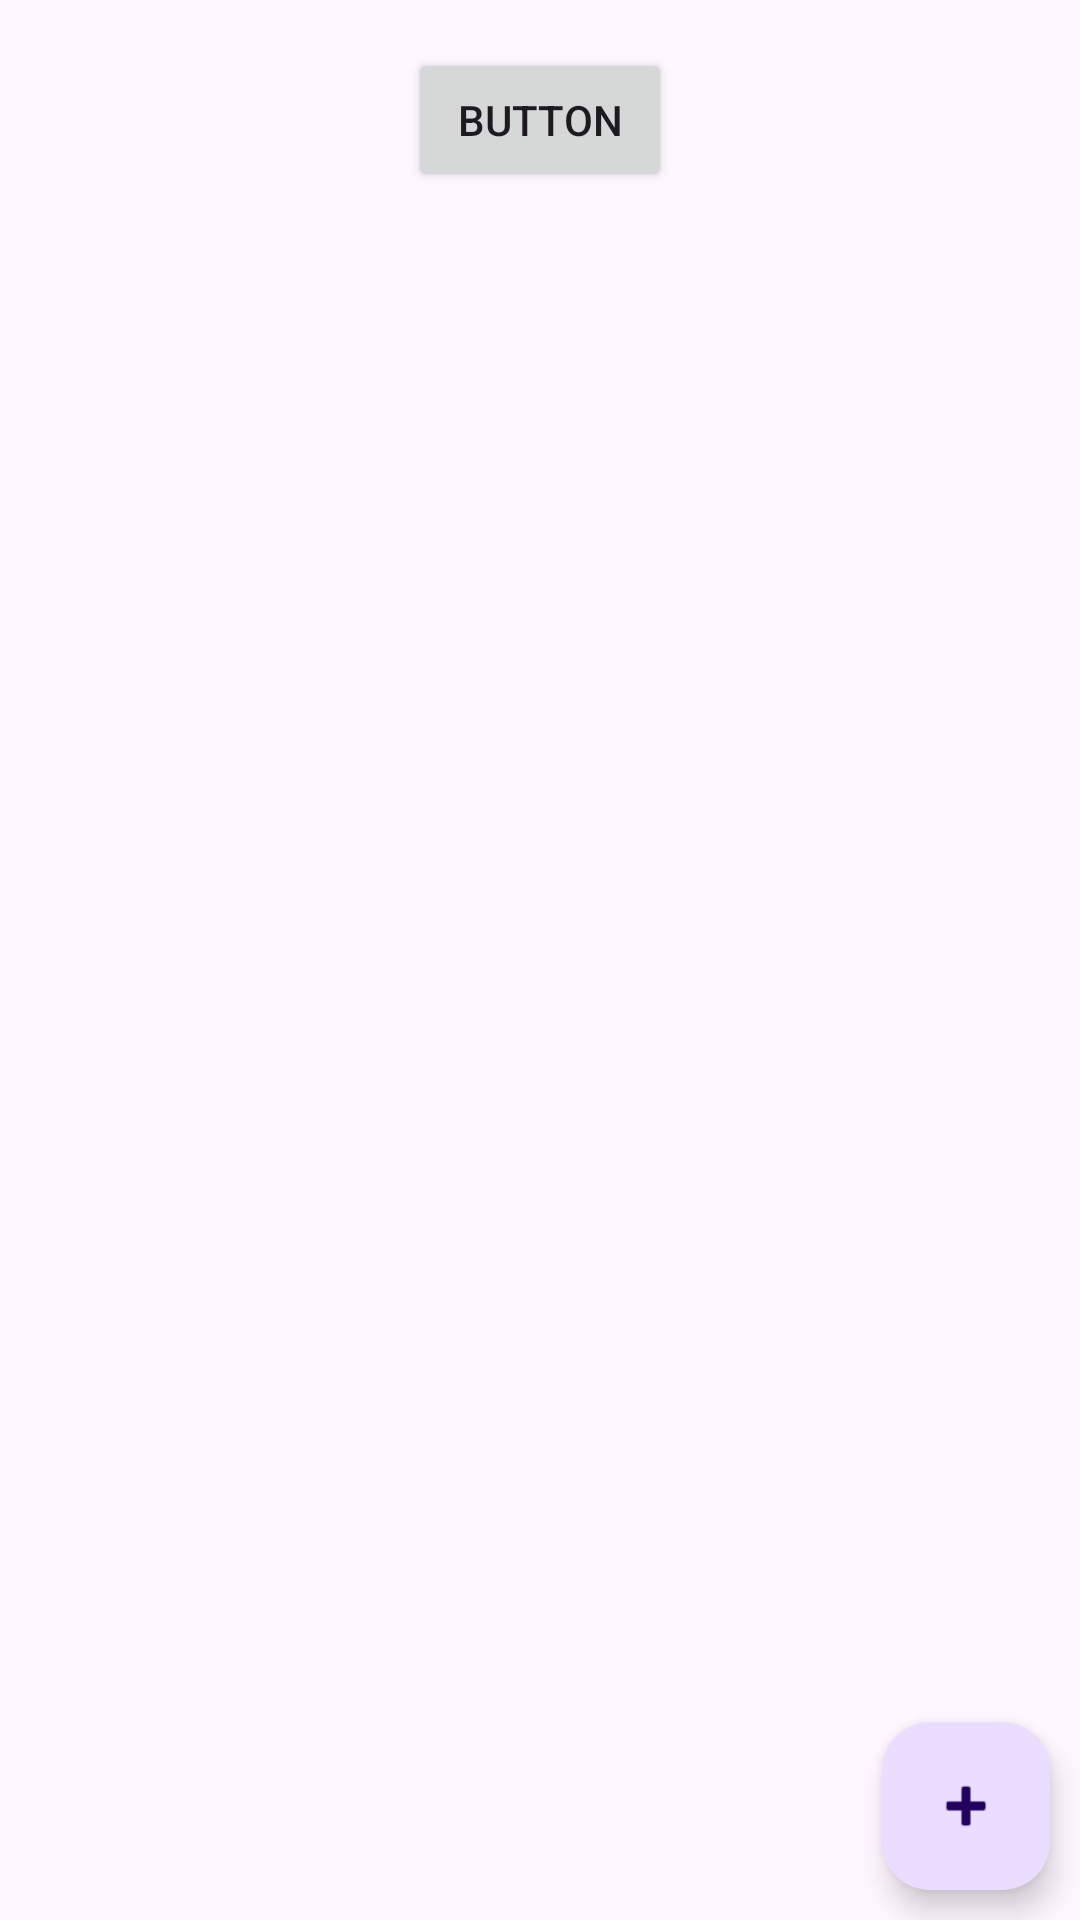

Where to tap for icons on this 1080 x 1920 app screen, as [x,y]:
add: [966,1806]
